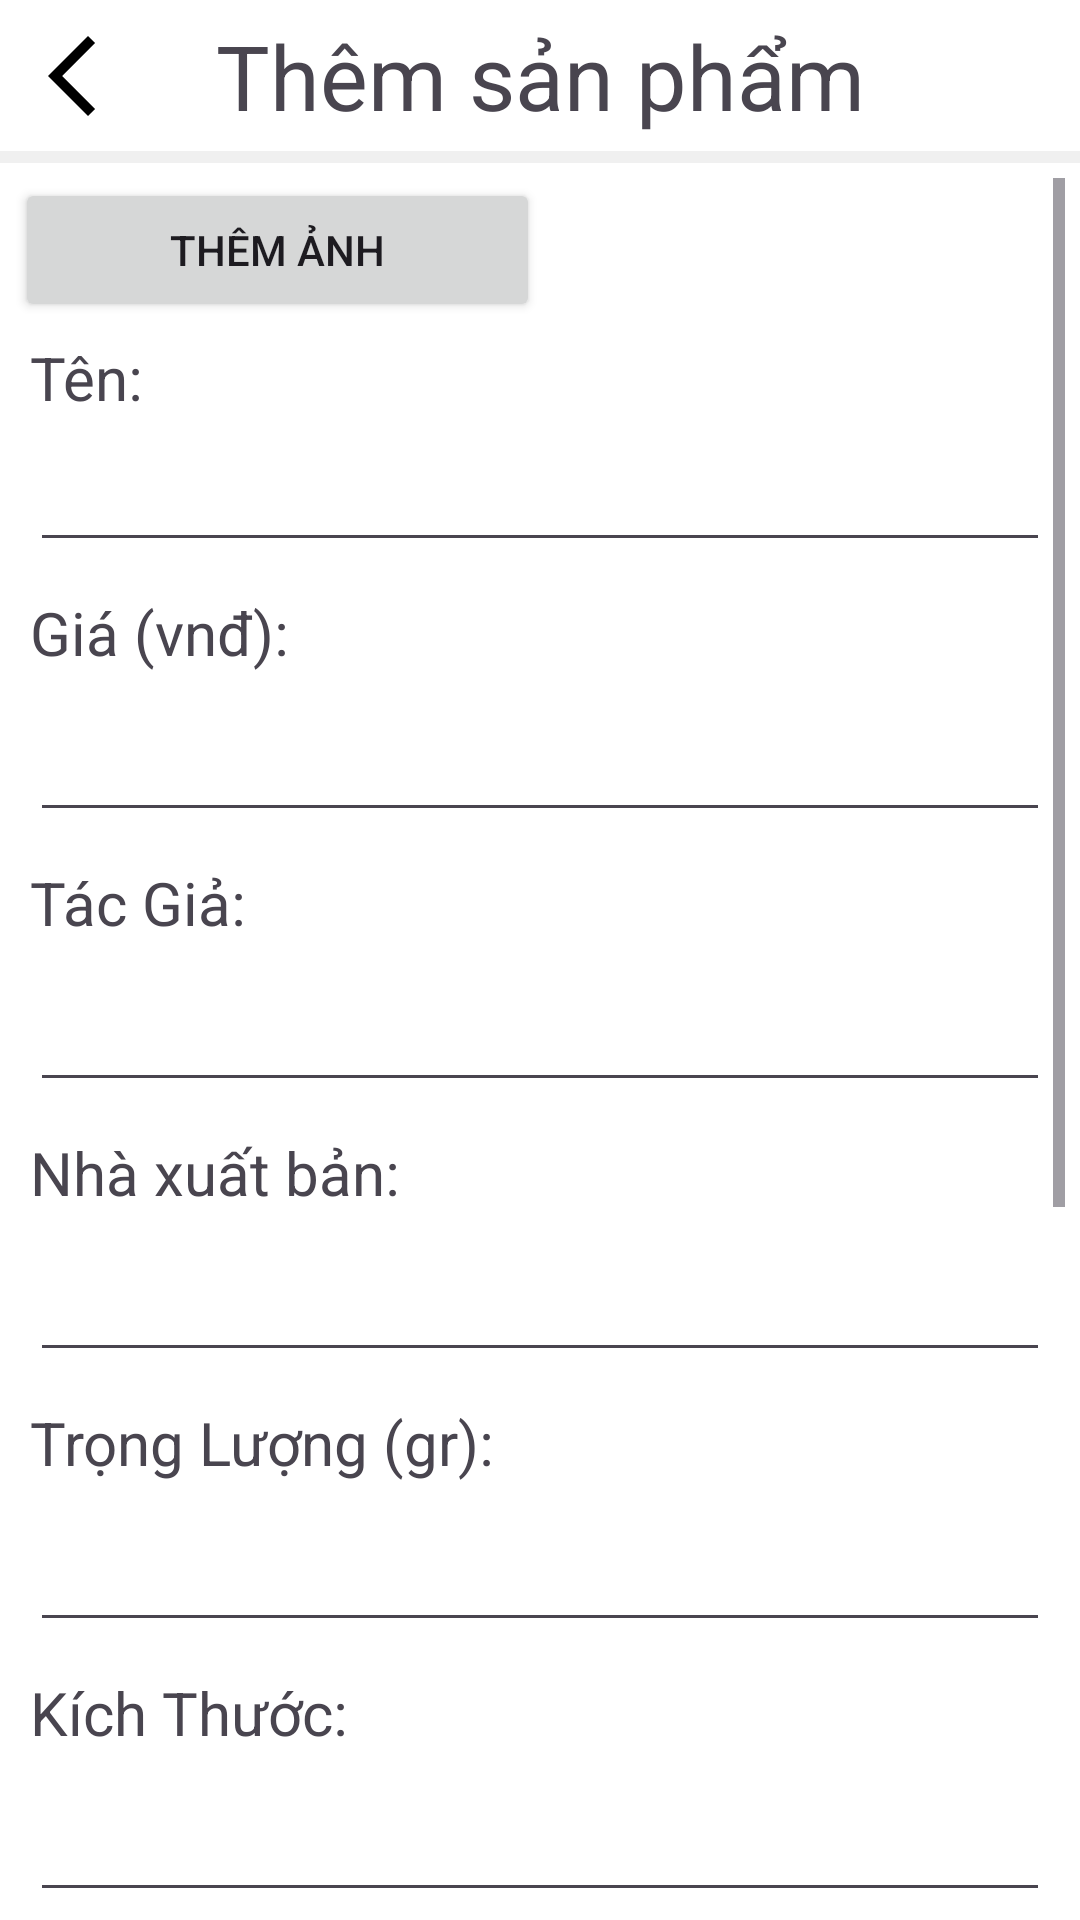

Icon bounding boxes for this 1080w x 1920h phone screenshot, format (x1, y1, x2, y2):
arrow back: (48, 36, 95, 116)
